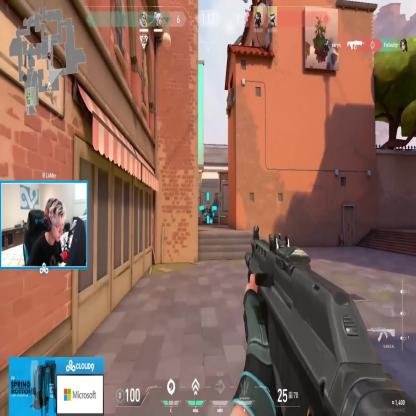enemy: (205, 206, 208, 224)
enemy_head: (206, 206, 209, 210)
